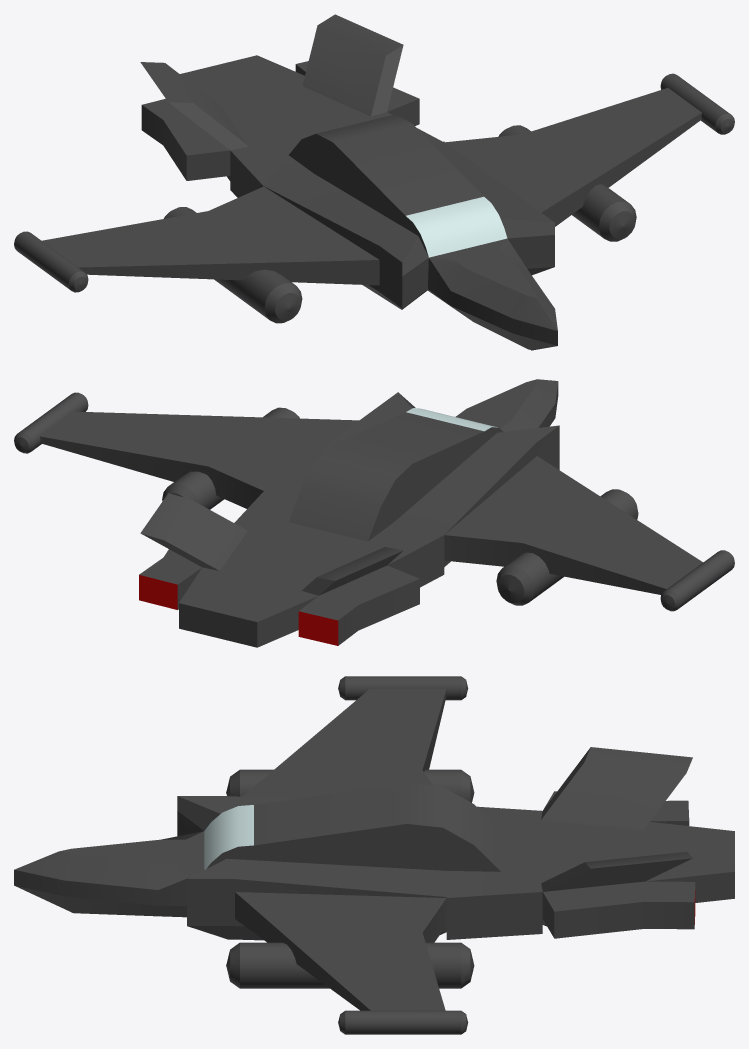
3 renders of one model, top to bottom at view 1: azimuth 30°, elevation 25°; view 2: azimuth 150°, elevation 25°; view 3: azimuth 270°, elevation 25°, orthographic. The views are drawn at different scales.
Parts seen in each view (by area): view 1: Plane; view 2: Plane; view 3: Plane.
Part boxes in pixels (<box>): Plane: <box>14,14,734,350</box>; Plane: <box>14,379,734,647</box>; Plane: <box>14,676,734,1034</box>.
Size of the model in its own units: 1697 by 250 by 1500.
